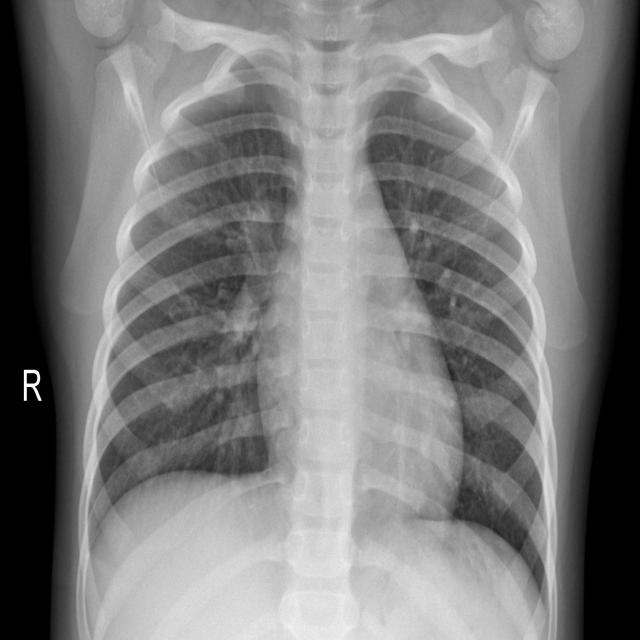no-pneumonia: (85, 83, 302, 546), (368, 89, 556, 616)
